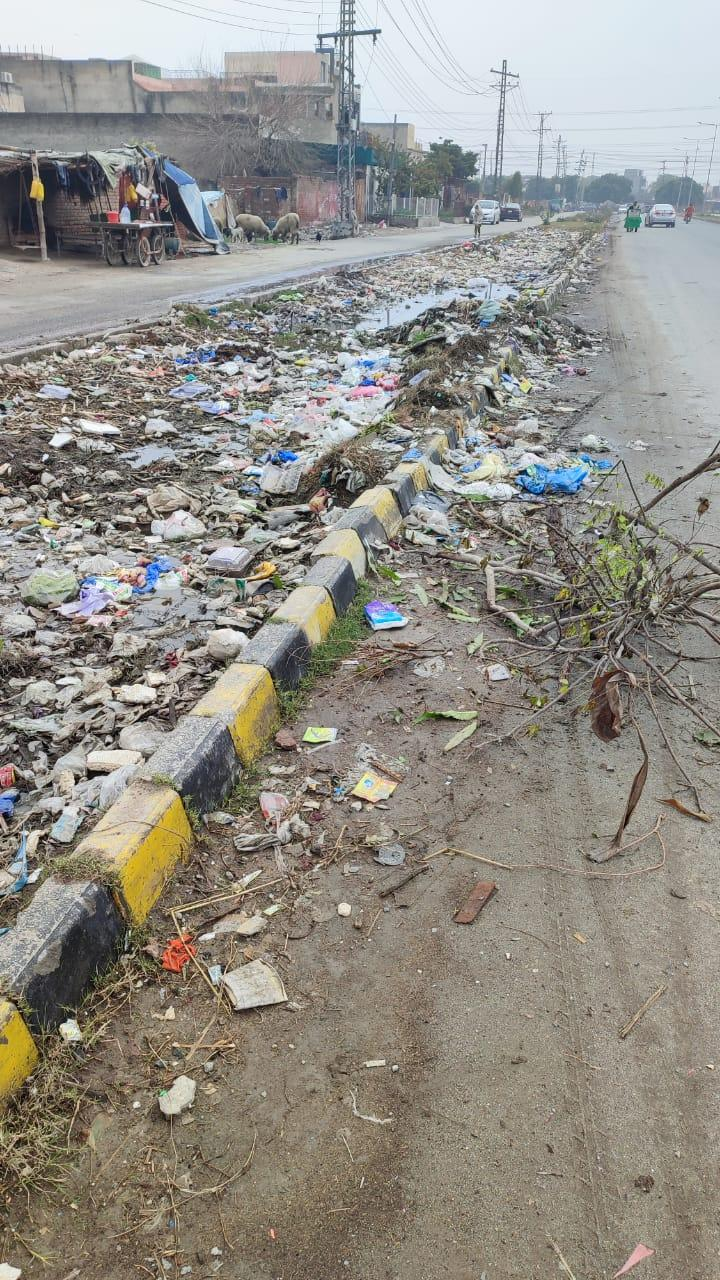garbage: (23, 283, 583, 743)
